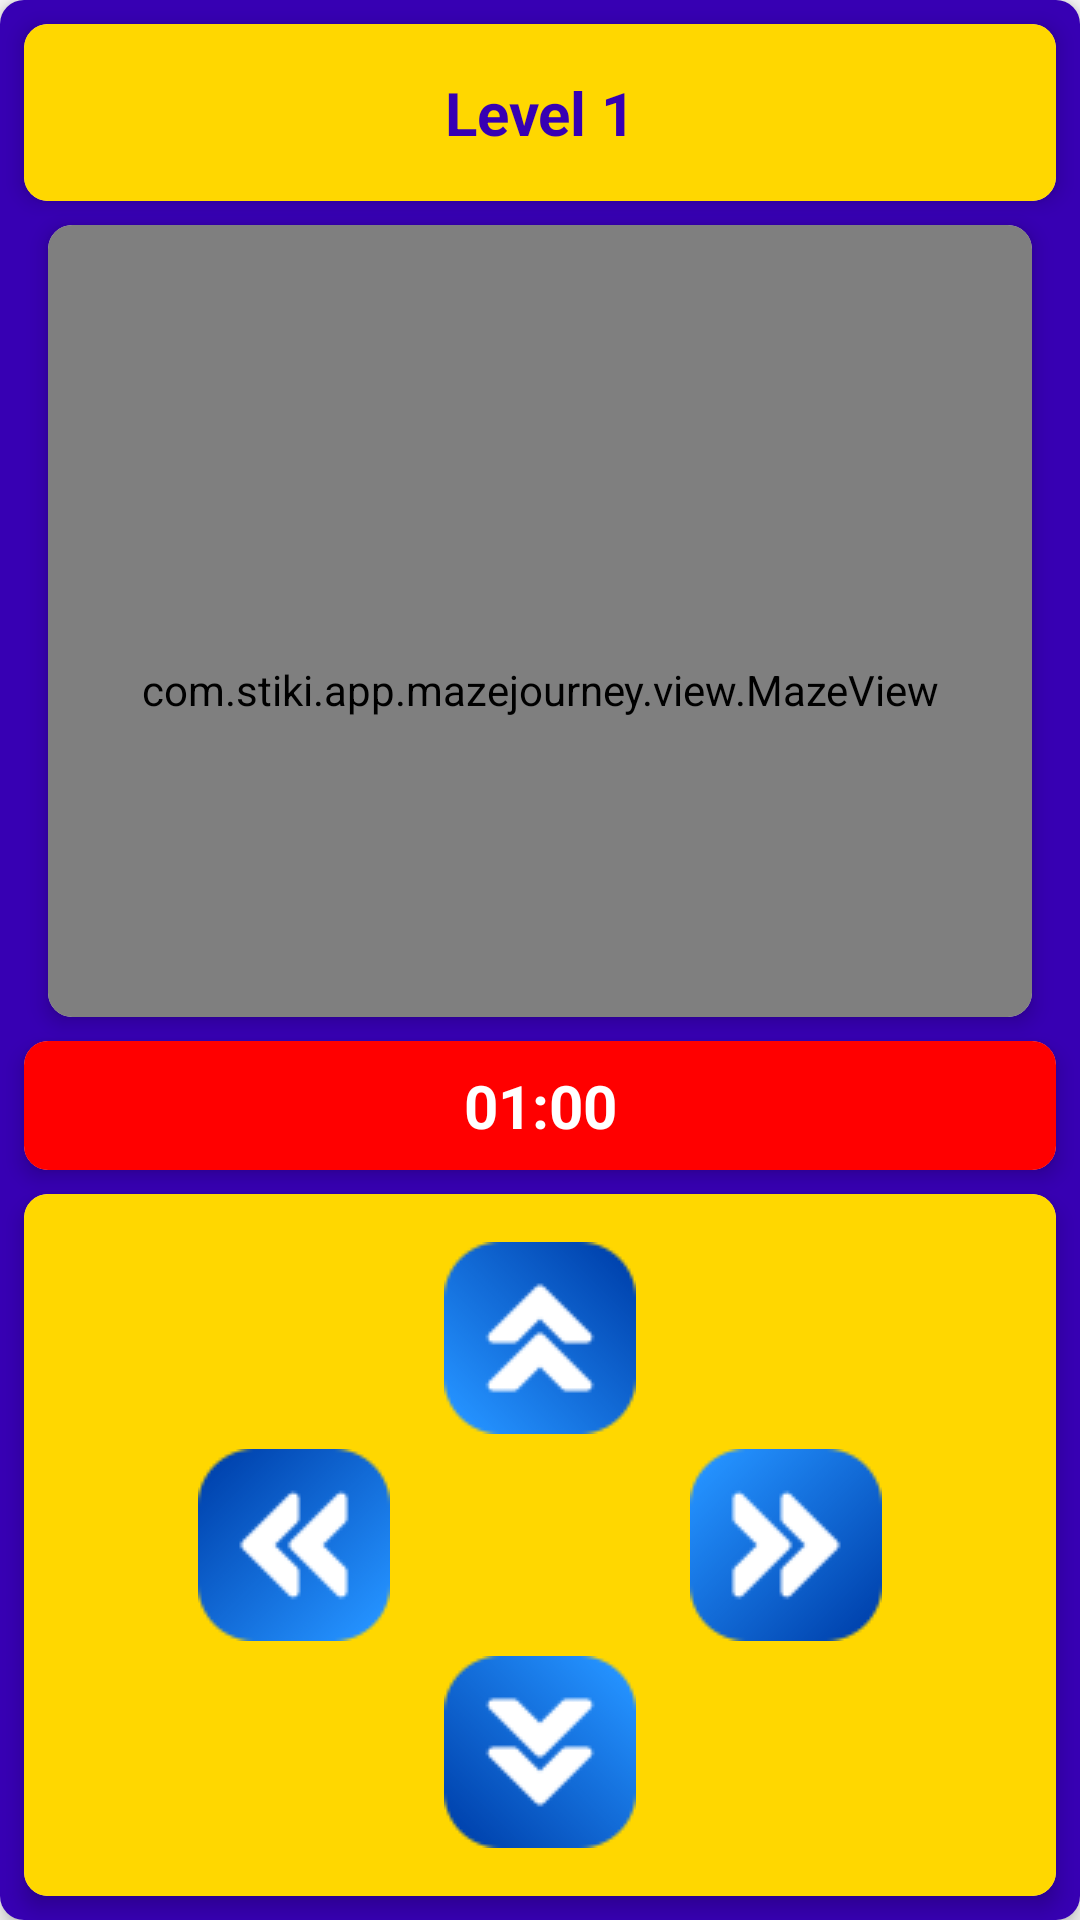

Named icons in this screenshot (1080×1920) and their centers, [x,y]:
down: [540,1752]
left: [294,1545]
right: [786,1545]
